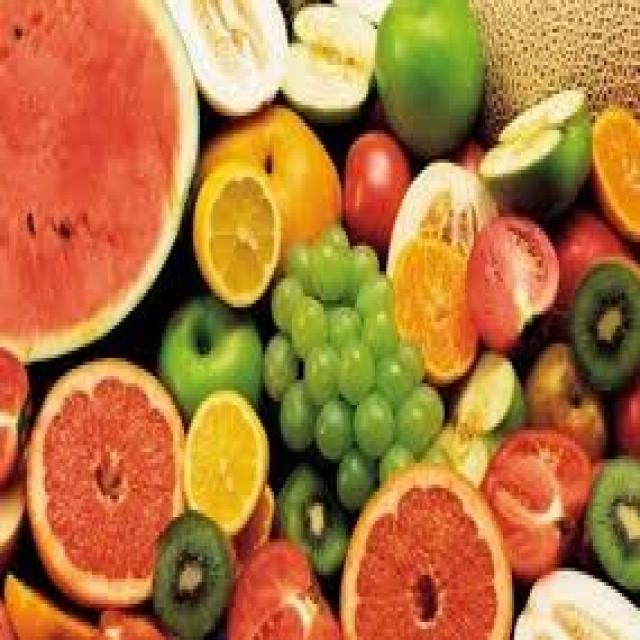organic waste: (0, 0, 638, 636), (0, 0, 195, 358), (27, 350, 184, 614), (335, 466, 512, 636), (467, 0, 638, 116), (198, 108, 344, 228), (476, 427, 586, 582), (476, 87, 591, 217), (378, 0, 478, 148), (155, 290, 265, 420), (168, 0, 285, 119), (177, 380, 265, 528), (186, 163, 276, 307), (465, 213, 559, 347), (270, 452, 352, 597), (388, 238, 474, 368), (287, 0, 375, 123), (227, 542, 337, 636), (150, 510, 232, 636), (552, 213, 638, 322), (510, 564, 638, 636), (391, 156, 496, 242), (526, 351, 608, 452), (344, 123, 406, 253), (575, 261, 638, 384), (590, 98, 638, 253), (588, 448, 638, 593), (0, 568, 101, 636), (449, 347, 530, 430), (420, 419, 494, 481), (268, 380, 324, 452), (0, 369, 31, 481), (604, 365, 638, 459), (254, 322, 301, 390), (393, 384, 442, 448), (334, 438, 380, 506), (263, 326, 301, 394), (288, 293, 330, 354), (312, 398, 353, 459), (342, 340, 379, 405), (236, 485, 272, 546), (305, 340, 339, 401), (350, 398, 393, 444), (324, 296, 359, 351), (0, 466, 22, 553), (310, 238, 341, 296), (396, 325, 424, 387), (380, 343, 404, 405), (267, 275, 301, 318), (290, 235, 316, 289), (348, 246, 373, 300), (380, 444, 413, 484), (359, 271, 391, 311), (362, 304, 388, 351), (456, 141, 478, 170), (321, 224, 339, 246), (351, 242, 368, 253)
